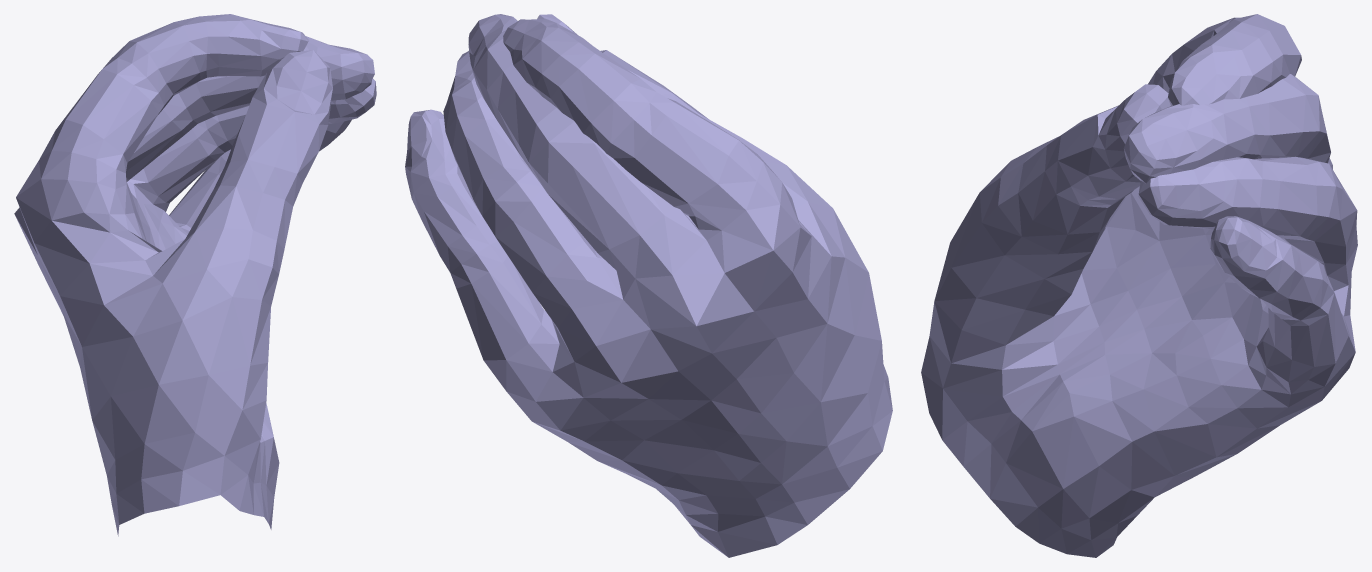
The model's file is frame_0024_source_000024_hand.glb.
3 renders of one model, left to right at view 1: azimuth 30°, elevation 25°; view 2: azimuth 150°, elevation 25°; view 3: azimuth 270°, elevation 25°, orthographic. The views are drawn at different scales.
Visible parts, largest first — view 1: world; view 2: world; view 3: world.
Boxes of the visible parts, x1,y1,x2,y2 form: world: (14,14,376,536); world: (405,14,892,557); world: (921,14,1357,557).
Size of the model in its own units: 0.0986 by 0.1348 by 0.0946.
